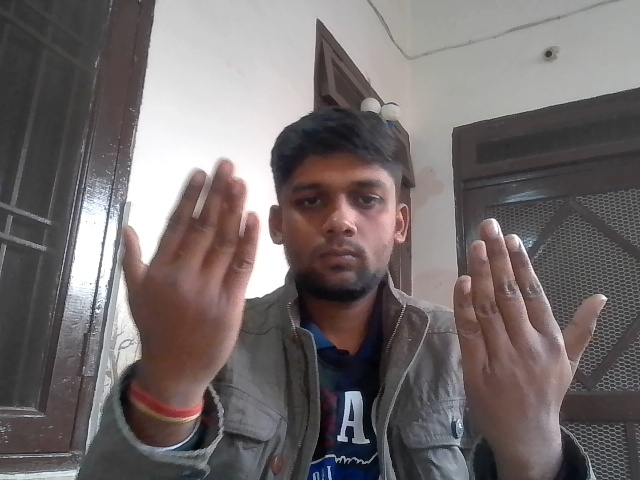ThankYou: (107, 156, 628, 454)
